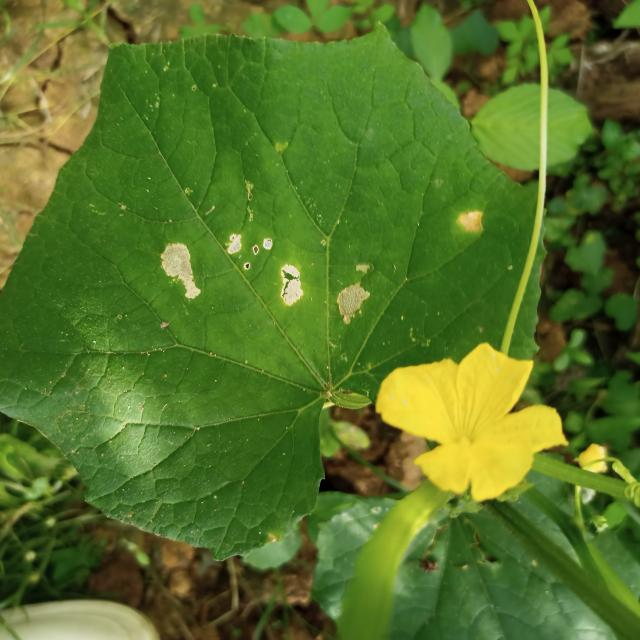disease_cucumber: (155, 232, 377, 324), (457, 205, 485, 232)
